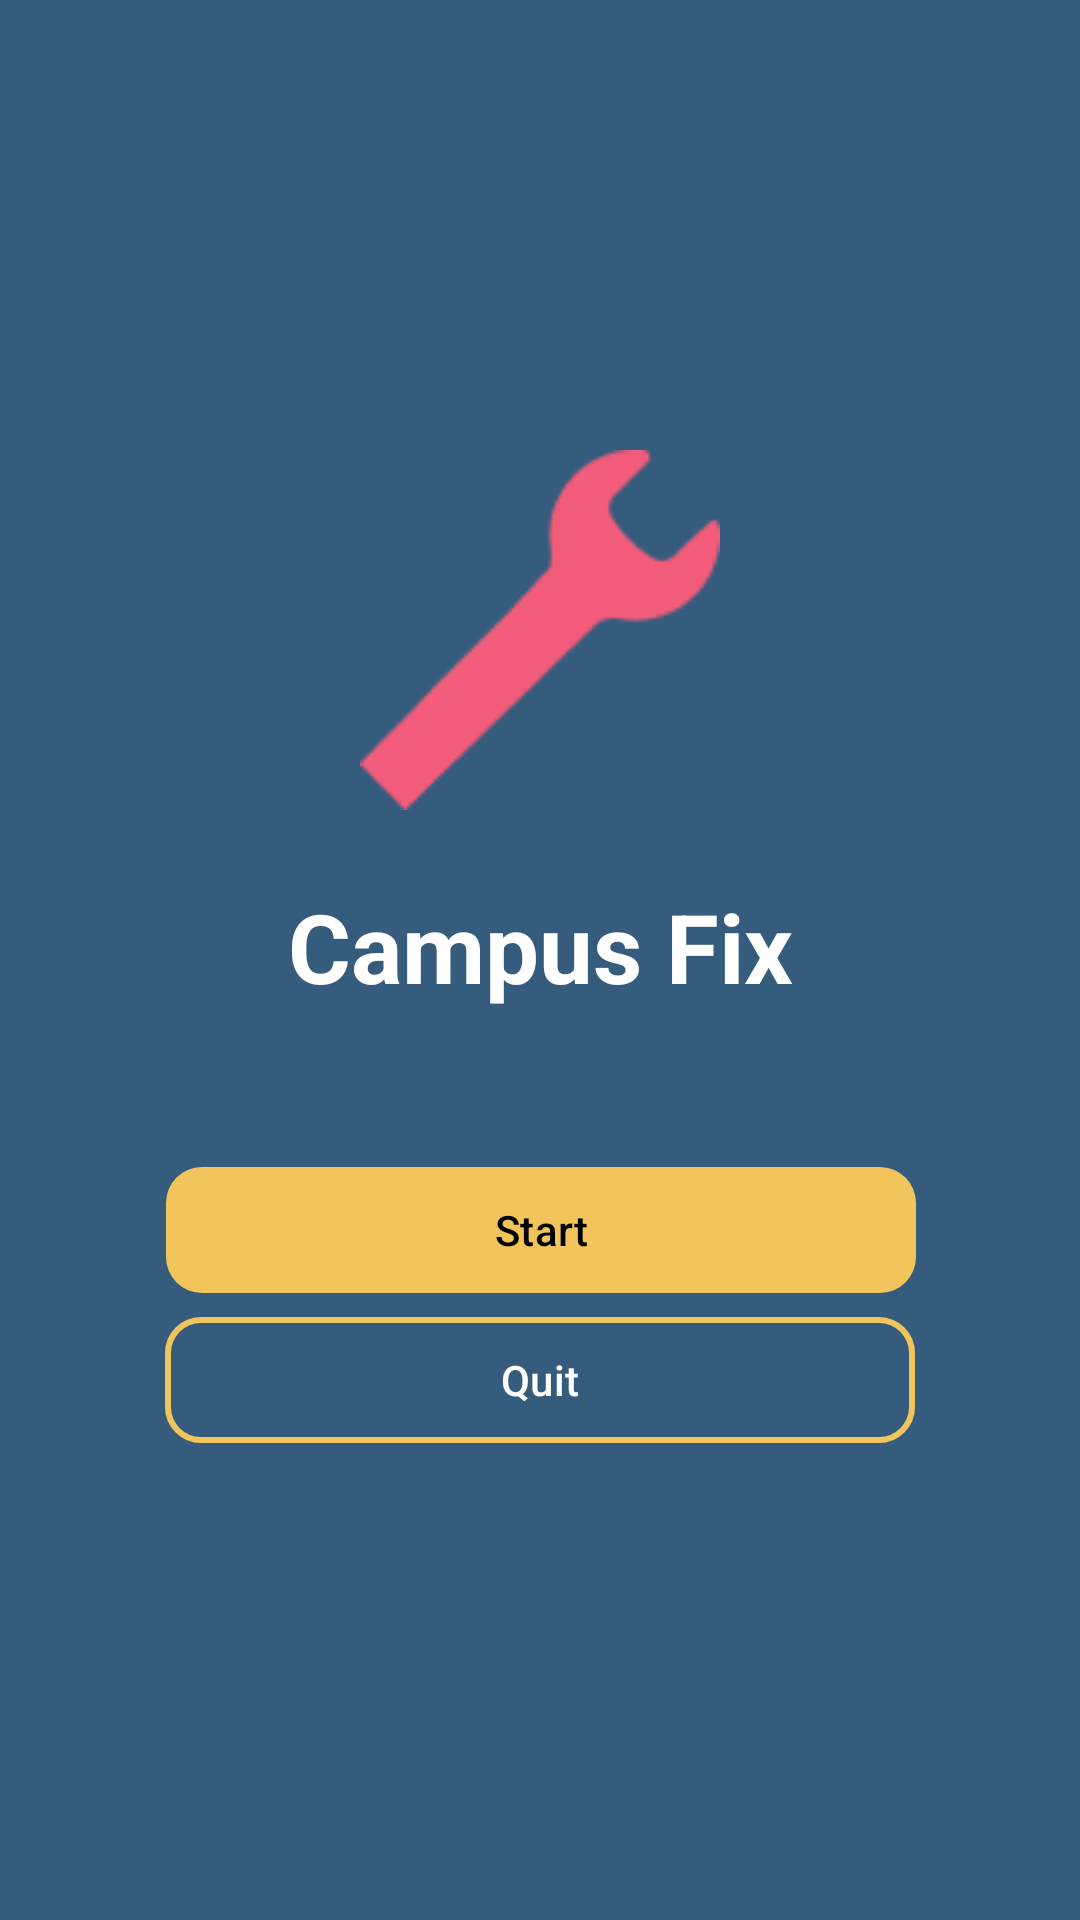

Point at icon controls on the screen. Image size 1080×1920, points as (x,y).
wrench old: (540,630)
